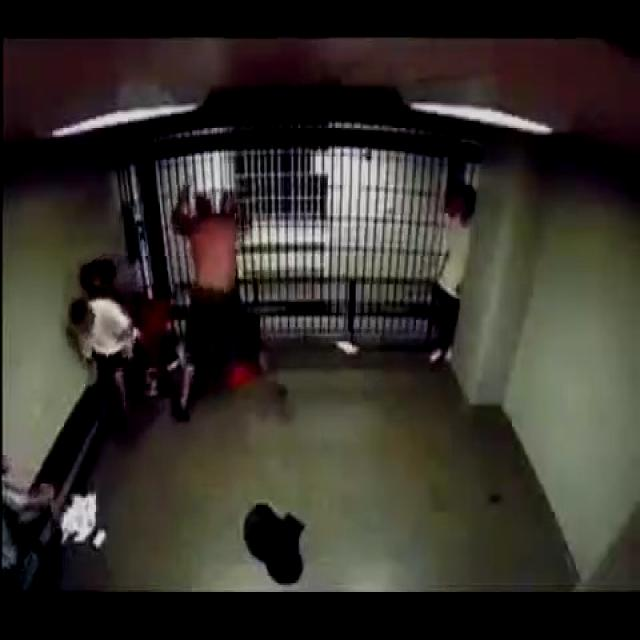fight: (166, 175, 264, 425)
